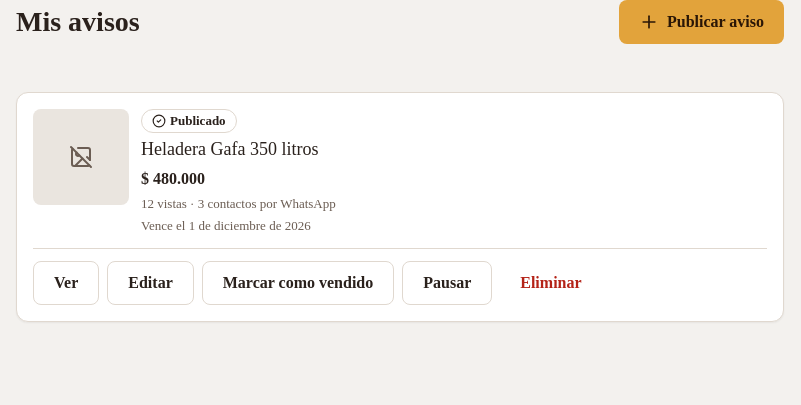
Test: MisAvisosPage — más estados y errores › muestra el error si falla un cambio de estado
Click the button "Pausar": [447, 283] box [402,261,492,305]
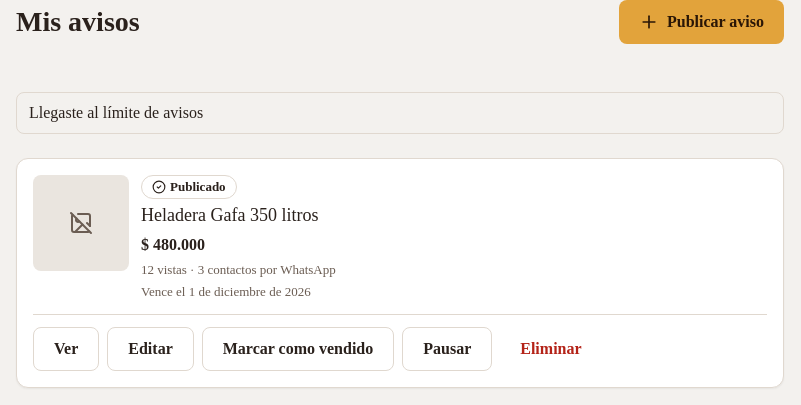
Expected: the text "Publicado" is shown, [141,175,237,199]
Expected: the message reads "Llegaste al límite de avisos", [29,104,203,121]
